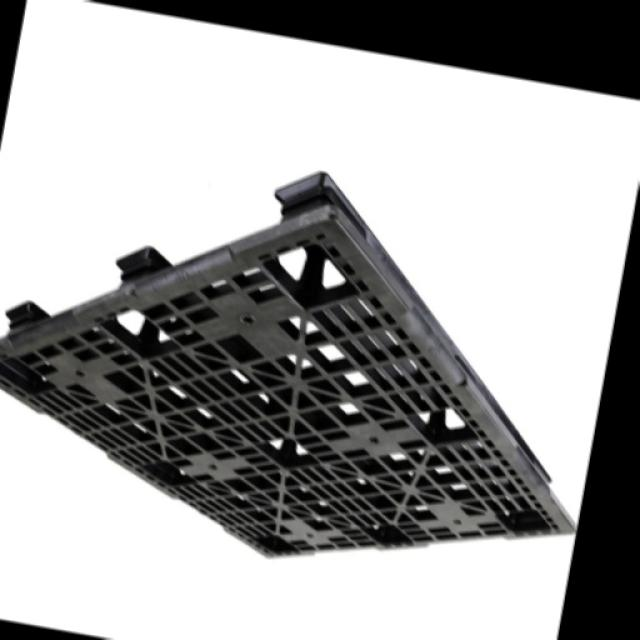non-igps: (0, 166, 580, 565)
